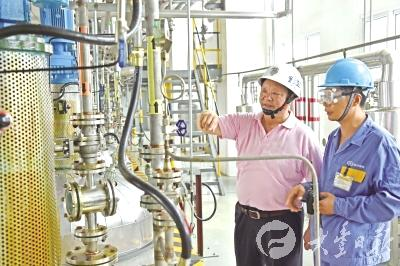helmet: (316, 56, 377, 125), (256, 62, 305, 119)
not_reflective: (313, 120, 400, 261), (225, 112, 325, 210)
